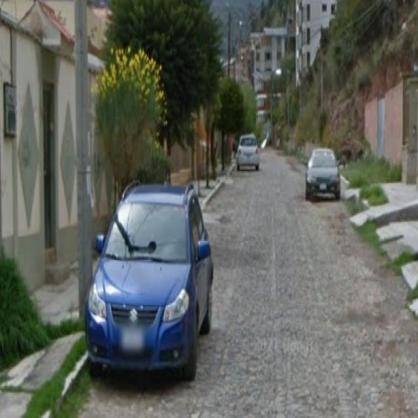car: (92, 185, 216, 382), (308, 150, 345, 202), (237, 134, 260, 178)
